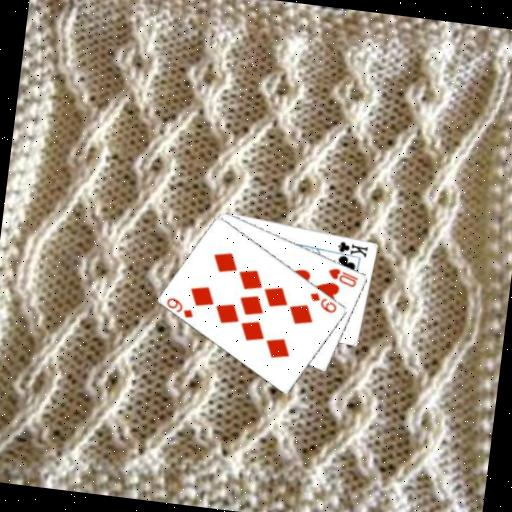10H: (324, 264, 361, 290)
9D: (306, 289, 341, 316), (163, 293, 198, 320)
KC: (331, 237, 371, 261)
